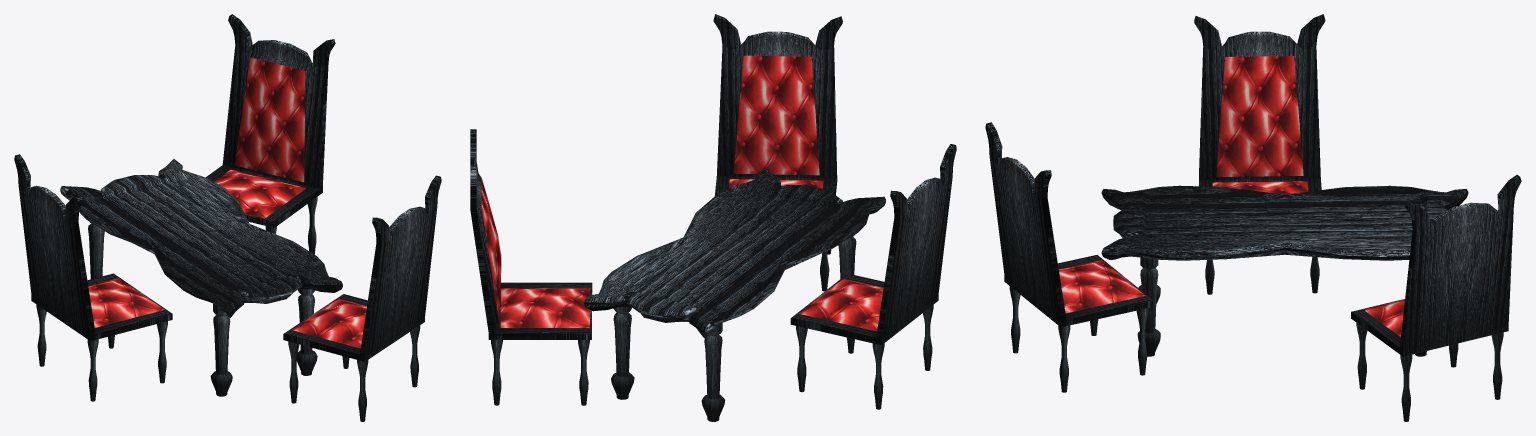
Rendered from table_chairs_model.fbx.
3 renders of one model, left to right at view 1: azimuth 30°, elevation 25°; view 2: azimuth 150°, elevation 25°; view 3: azimuth 270°, elevation 25°, orthographic. The views are drawn at different scales.
Parts seen in each view (by area): view 1: polySurface13; view 2: polySurface13; view 3: polySurface13.
Part boxes in pixels (bbox=[...]): polySurface13: bbox=[14, 14, 441, 421]; polySurface13: bbox=[470, 14, 956, 421]; polySurface13: bbox=[985, 14, 1521, 421].
Size of the model in its own units: 0.3888 by 0.2187 by 0.4631.
